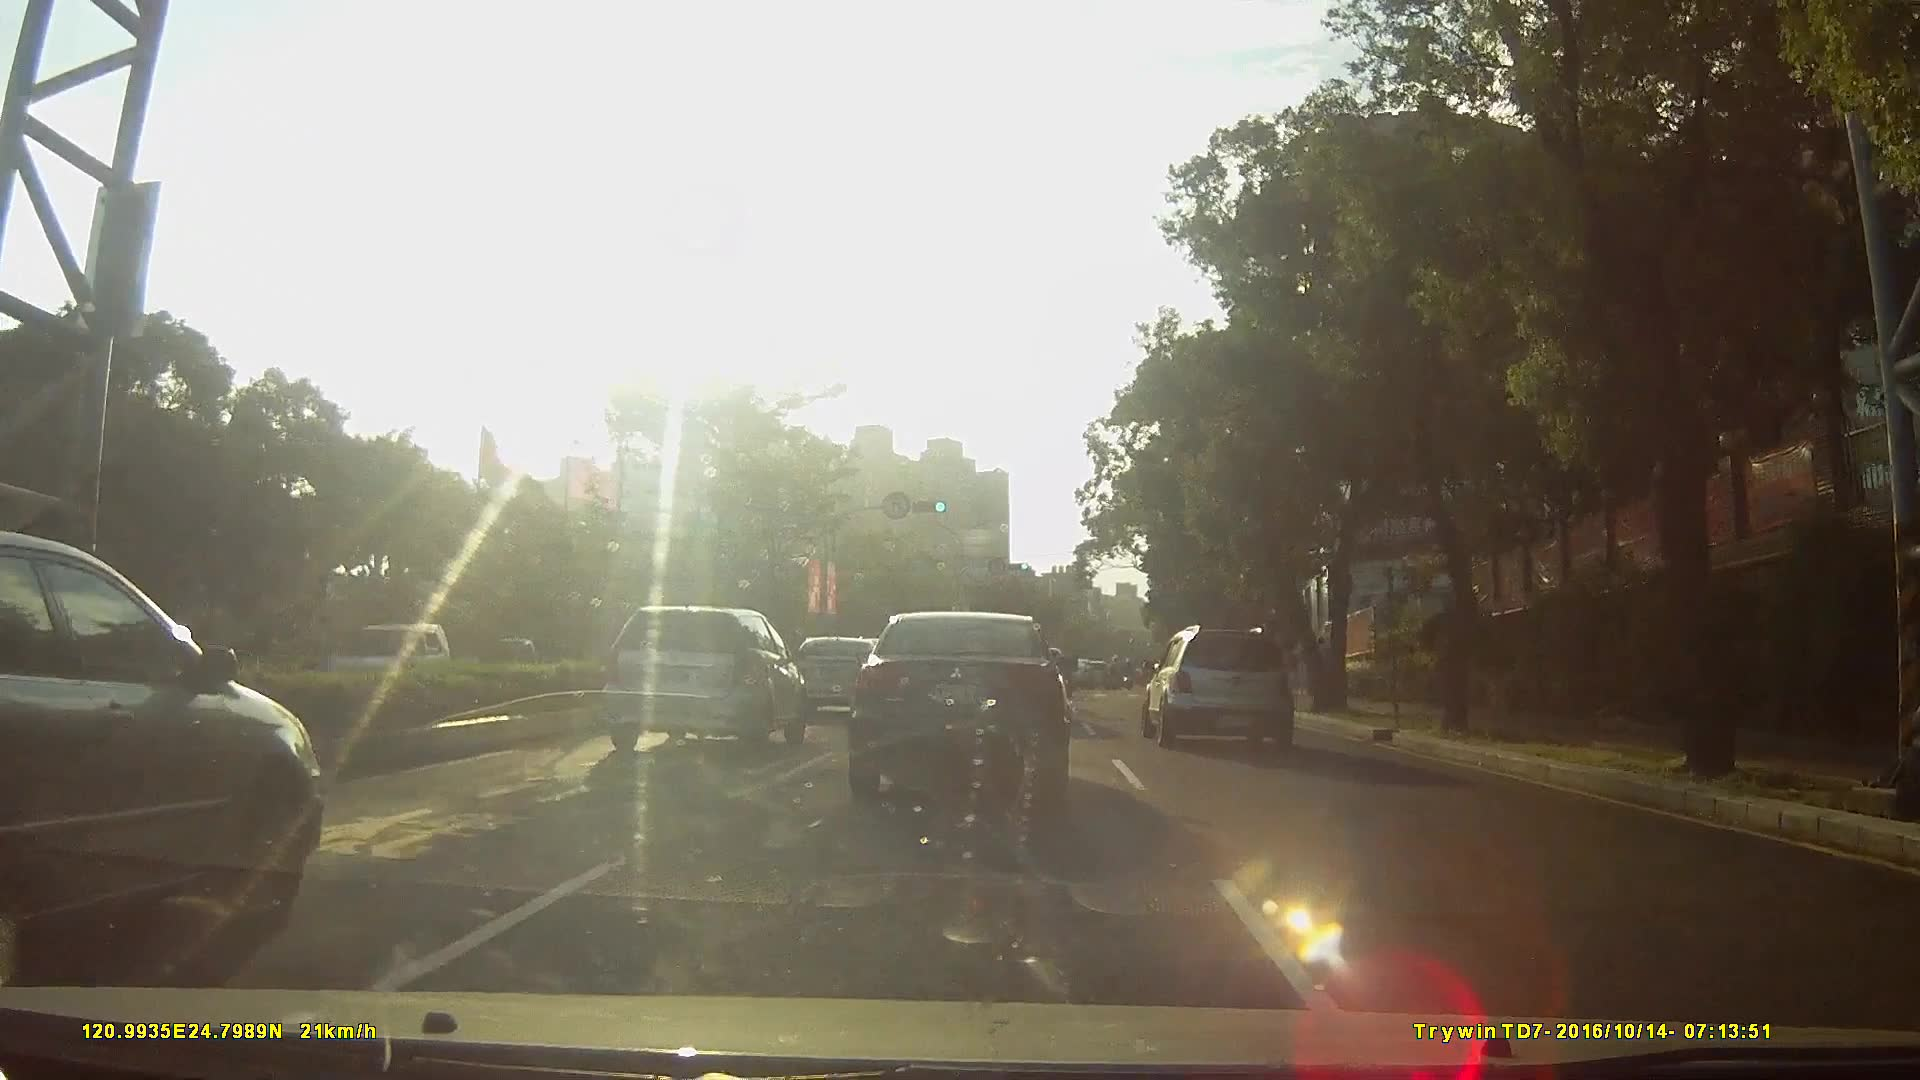vehicle: (1, 531, 349, 994), (847, 615, 1069, 814), (593, 607, 804, 754), (1138, 620, 1305, 746), (319, 624, 459, 703), (782, 636, 897, 717), (1075, 659, 1109, 690)
